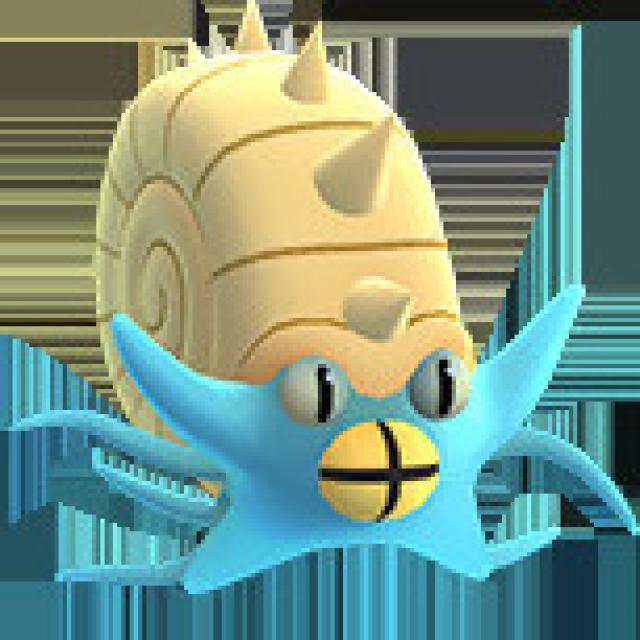Omastar: (90, 7, 590, 599)
